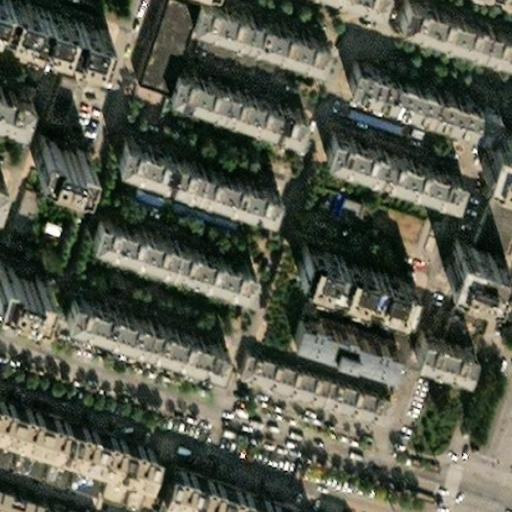building: (103, 125, 270, 203), (74, 206, 235, 281), (54, 287, 211, 361), (308, 121, 453, 193), (160, 52, 302, 122), (338, 55, 478, 121), (237, 336, 381, 398), (281, 234, 397, 300), (146, 459, 288, 512), (281, 316, 385, 372), (328, 183, 423, 237), (461, 159, 512, 243), (431, 269, 481, 337), (192, 10, 272, 51), (438, 229, 497, 280), (139, 0, 185, 63), (408, 322, 469, 366), (25, 128, 84, 168), (341, 103, 406, 139), (472, 119, 512, 167), (39, 66, 69, 112)
